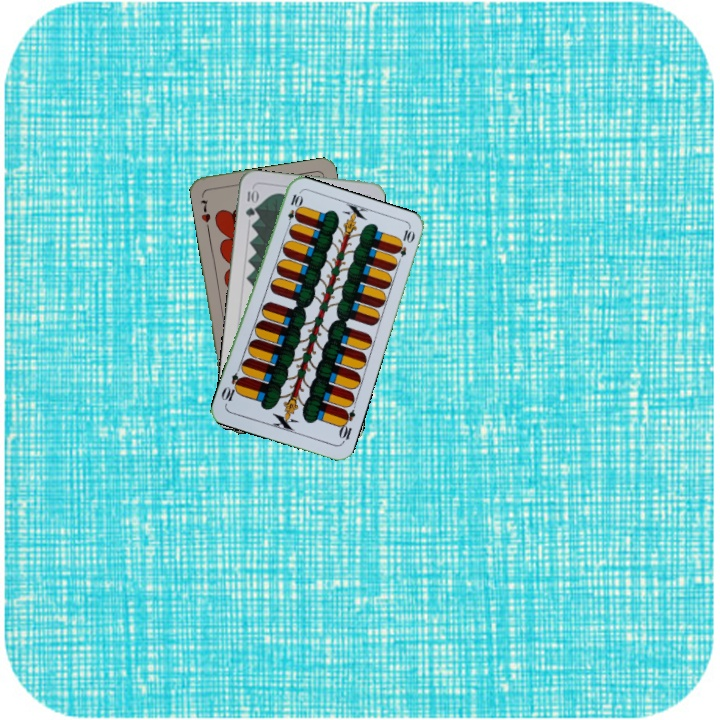E10: (335, 405, 358, 446), (283, 190, 303, 230)
G10: (242, 184, 260, 220)
H7: (196, 195, 213, 225)
